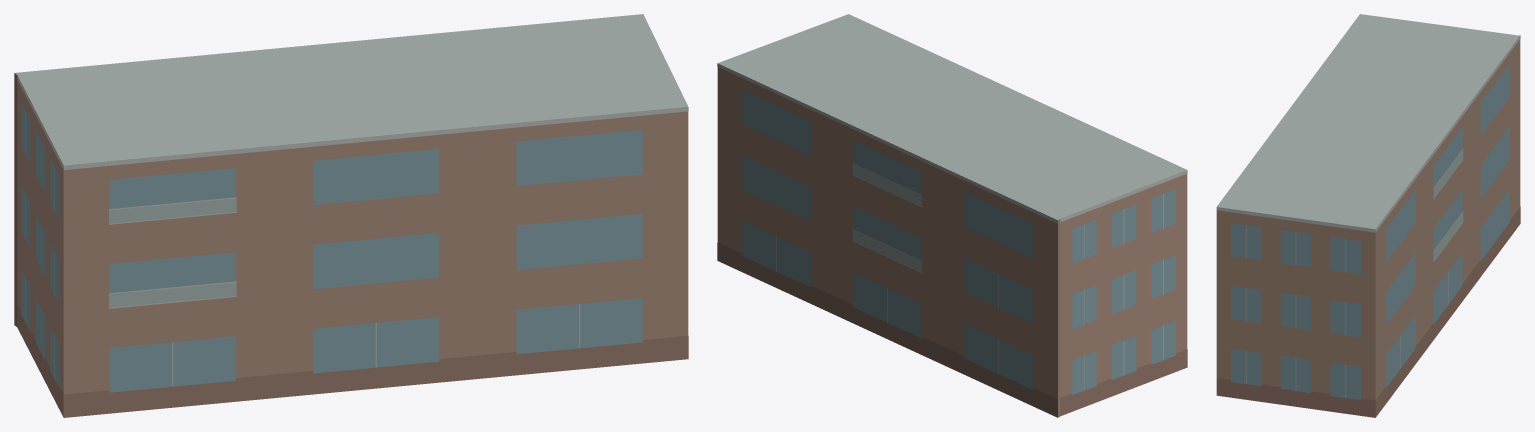
File: survey-upis-32986171.glb
3 views of the same model, side by side, from view 1: azimuth 30°, elevation 25°; view 2: azimuth 150°, elevation 25°; view 3: azimuth 270°, elevation 25° (orthographic). The views are drawn at different scales.
Visible parts, largest first — view 1: survey-upis-32986171.tmp; view 2: survey-upis-32986171.tmp; view 3: survey-upis-32986171.tmp.
Boxes of the visible parts, x1,y1,x2,y2 form: survey-upis-32986171.tmp: (14,14,688,417); survey-upis-32986171.tmp: (717,14,1187,417); survey-upis-32986171.tmp: (1216,14,1520,417).
Bounding box in the file's own units: 32.97 × 13.47 × 19.68.
